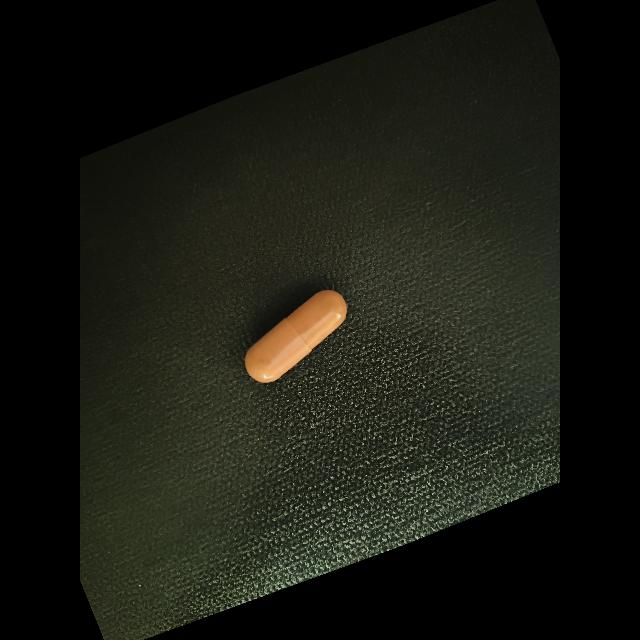Intact Capsule: (245, 290, 347, 383)
